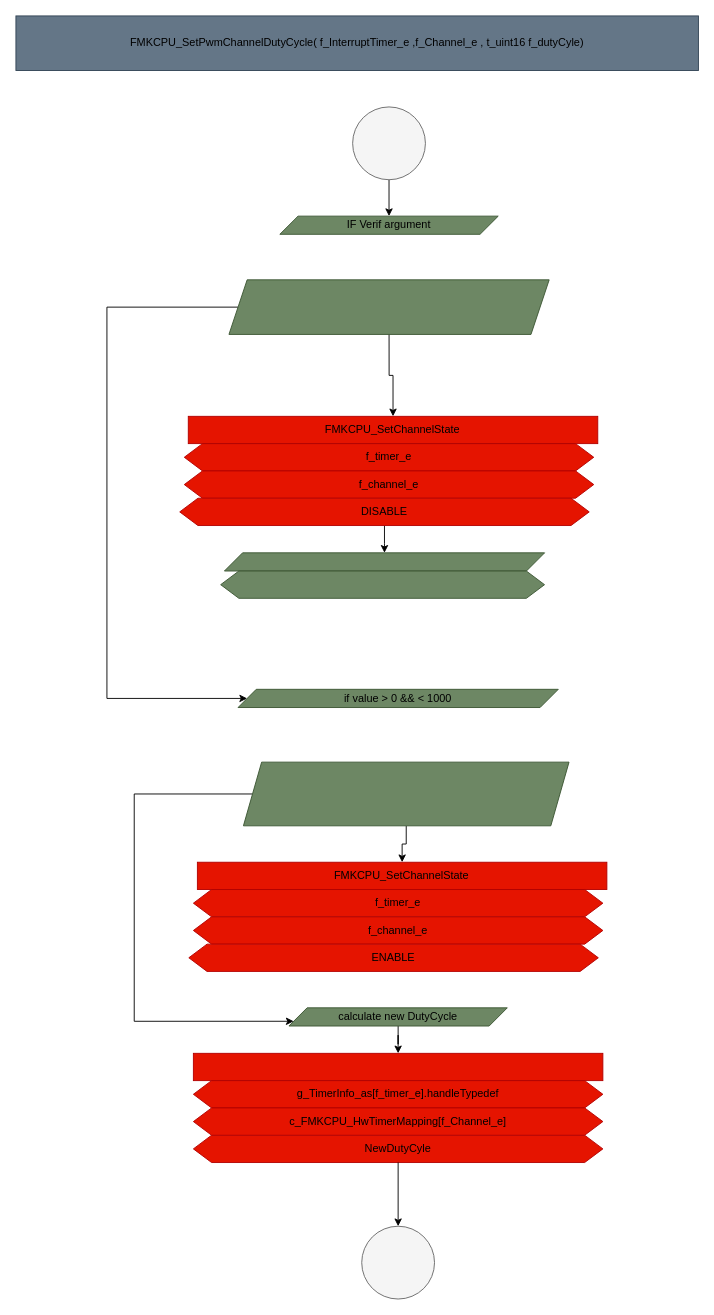
Image size: 714x1315. Some labels were removed from this diagram. Each missing label, with the centre of its shape:
"__HAL_TIM_SET_COMPARE" goes at (x=397, y=1066).
"g_TimerInfo_as_s.channel[f_channel].IsRunnong_b = False" goes at (x=382, y=584).
"if g_TimerInfo_as_s.channel[f_channel].IsRunnong_b == False" goes at (x=406, y=793).
"if value == 0 cut down channel" goes at (x=388, y=306).
"Start" goes at (x=388, y=143).
"Stop" goes at (x=398, y=1262).
"Update Timer Info channeml" goes at (x=384, y=561).
